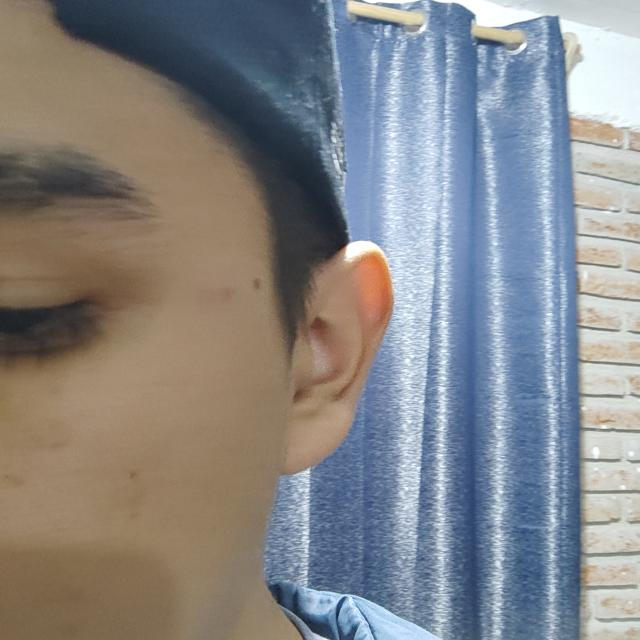ear: (280, 241, 392, 474)
